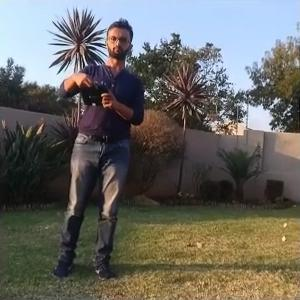follow: (44, 17, 147, 288)
